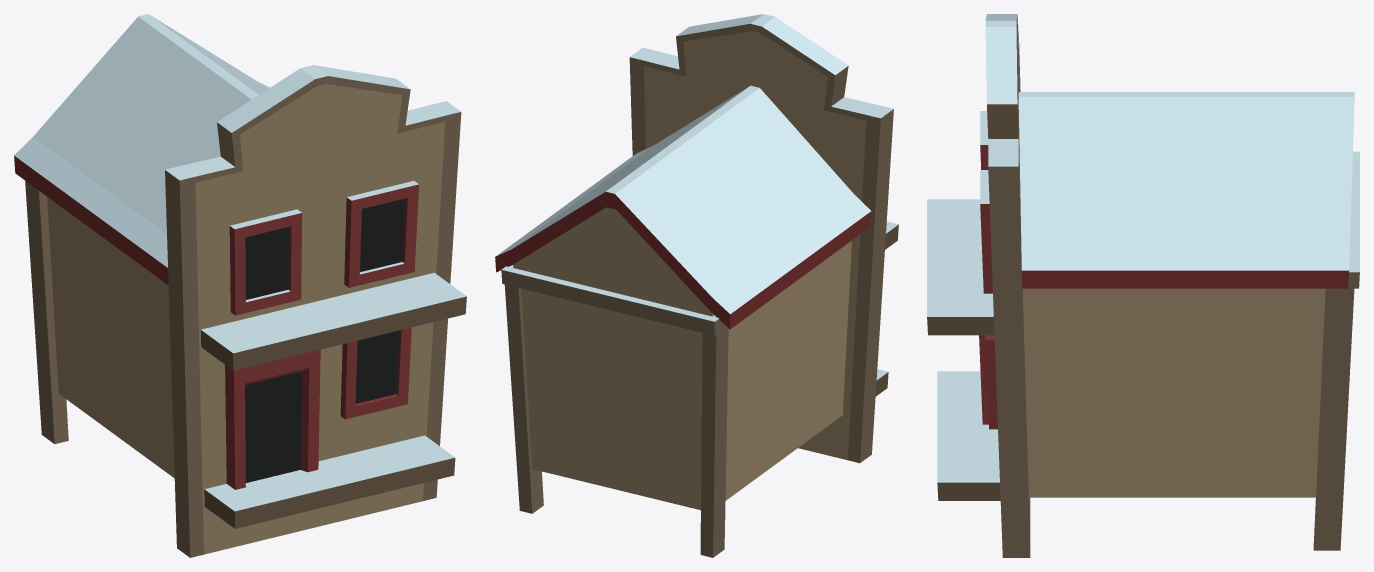
File: SM_Bld_Western_Building_01_Snow.fbx
3 views of the same model, side by side, from view 1: azimuth 30°, elevation 25°; view 2: azimuth 150°, elevation 25°; view 3: azimuth 270°, elevation 25° (orthographic). The views are drawn at different scales.
Parts seen in each view (by area): view 1: SM_Bld_Western_Building_01_Snow; view 2: SM_Bld_Western_Building_01_Snow; view 3: SM_Bld_Western_Building_01_Snow.
Part boxes in pixels (<box>): SM_Bld_Western_Building_01_Snow: <box>14,14,466,557</box>; SM_Bld_Western_Building_01_Snow: <box>495,14,898,557</box>; SM_Bld_Western_Building_01_Snow: <box>927,14,1359,557</box>.
Bounding box in the file's own units: 83.98 × 130 × 108.
Materials: 1 (1 with a texture image).
